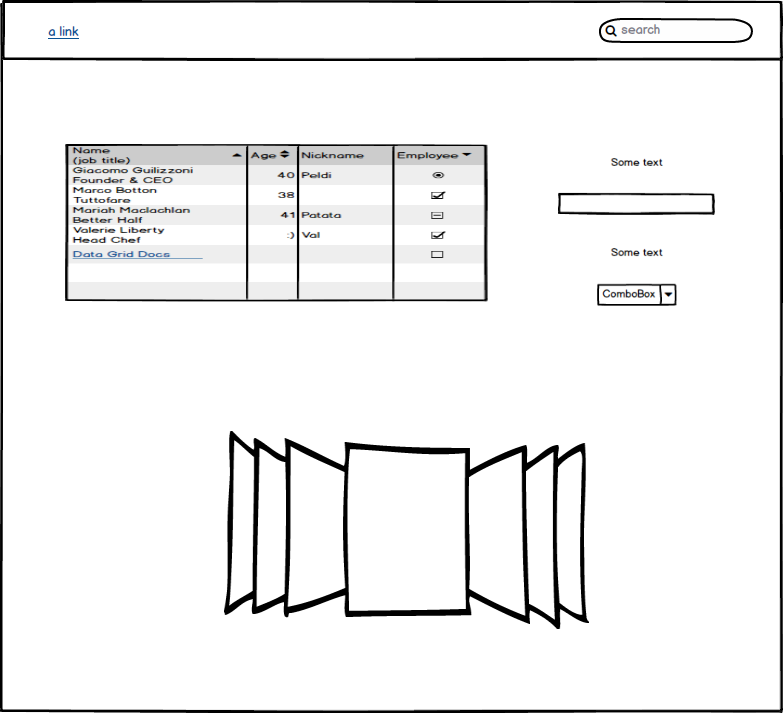input: (553, 189, 721, 220)
label: (604, 151, 673, 175), (604, 241, 673, 262)
navlink: (41, 17, 89, 48)
search: (593, 14, 757, 45)
select_box: (591, 279, 681, 310)
slideshow: (214, 425, 596, 633)
table: (59, 137, 495, 308)
